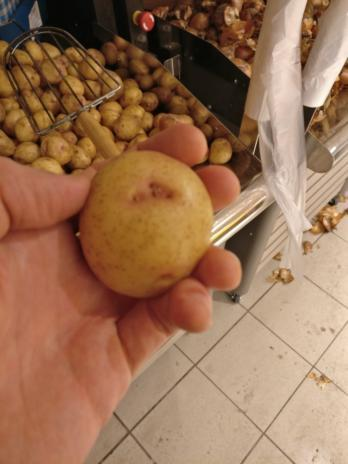Floury potato: (79, 147, 213, 296)
